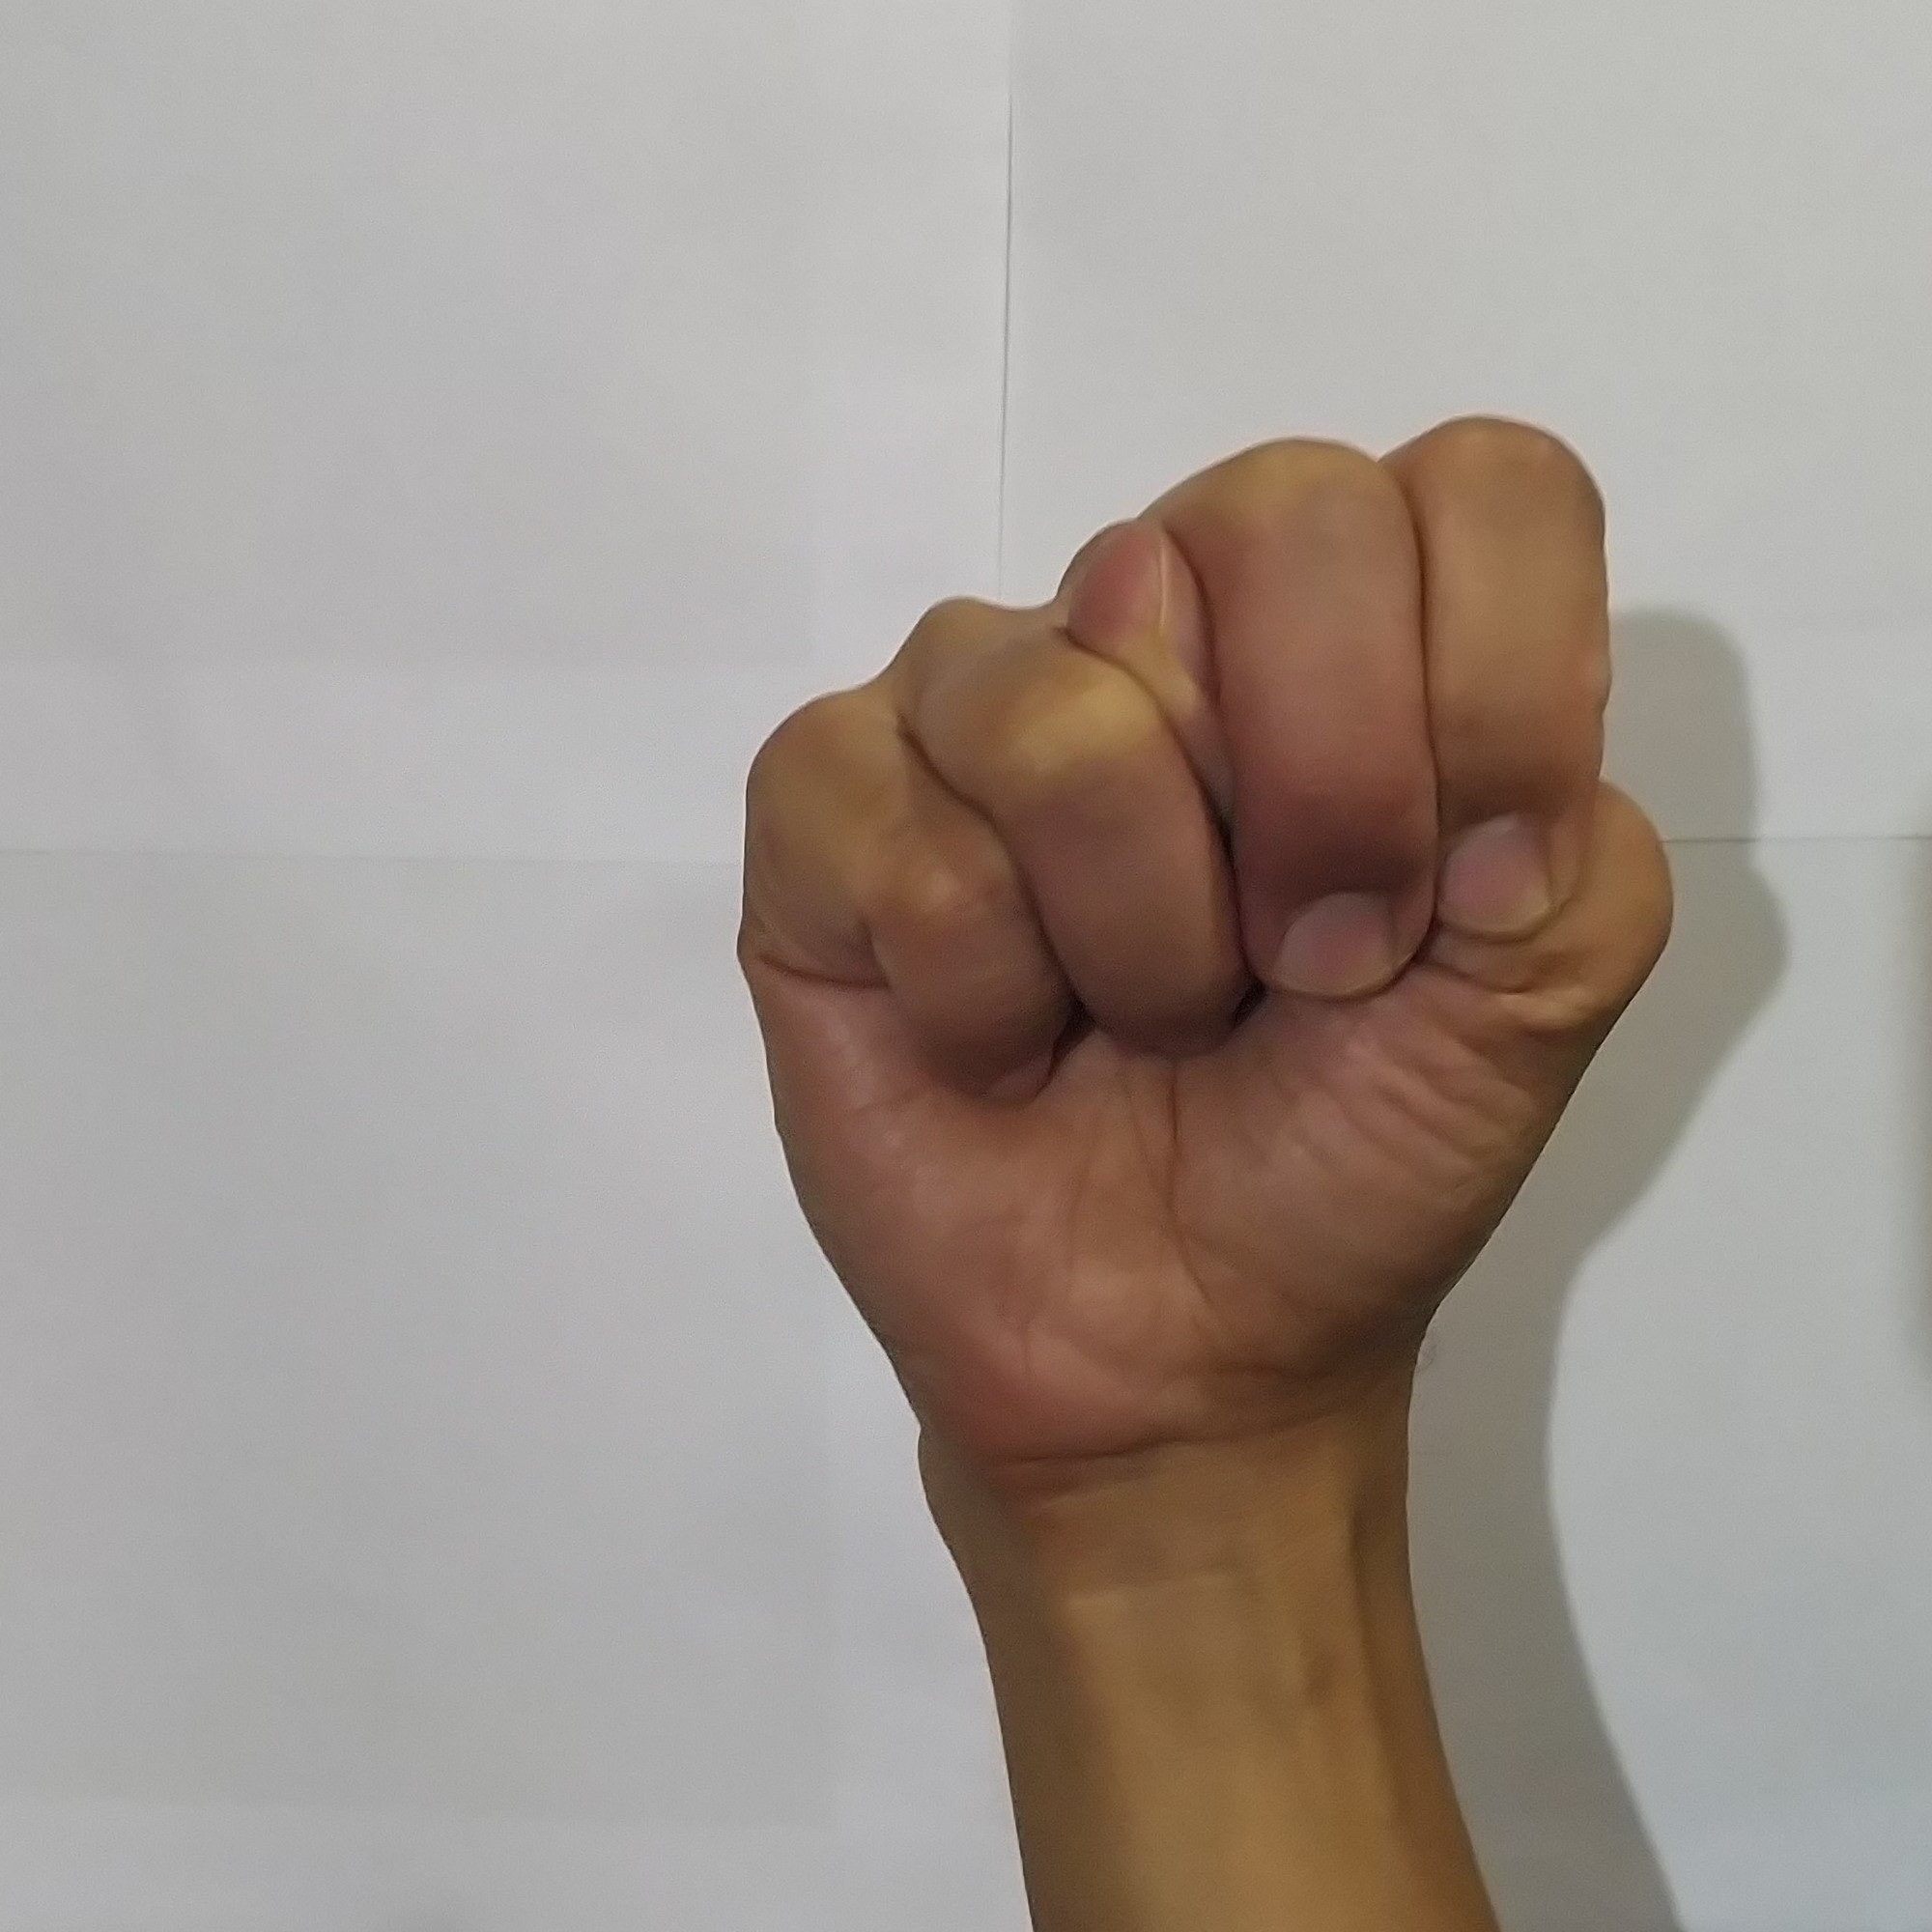N: (709, 386, 1698, 1430)
